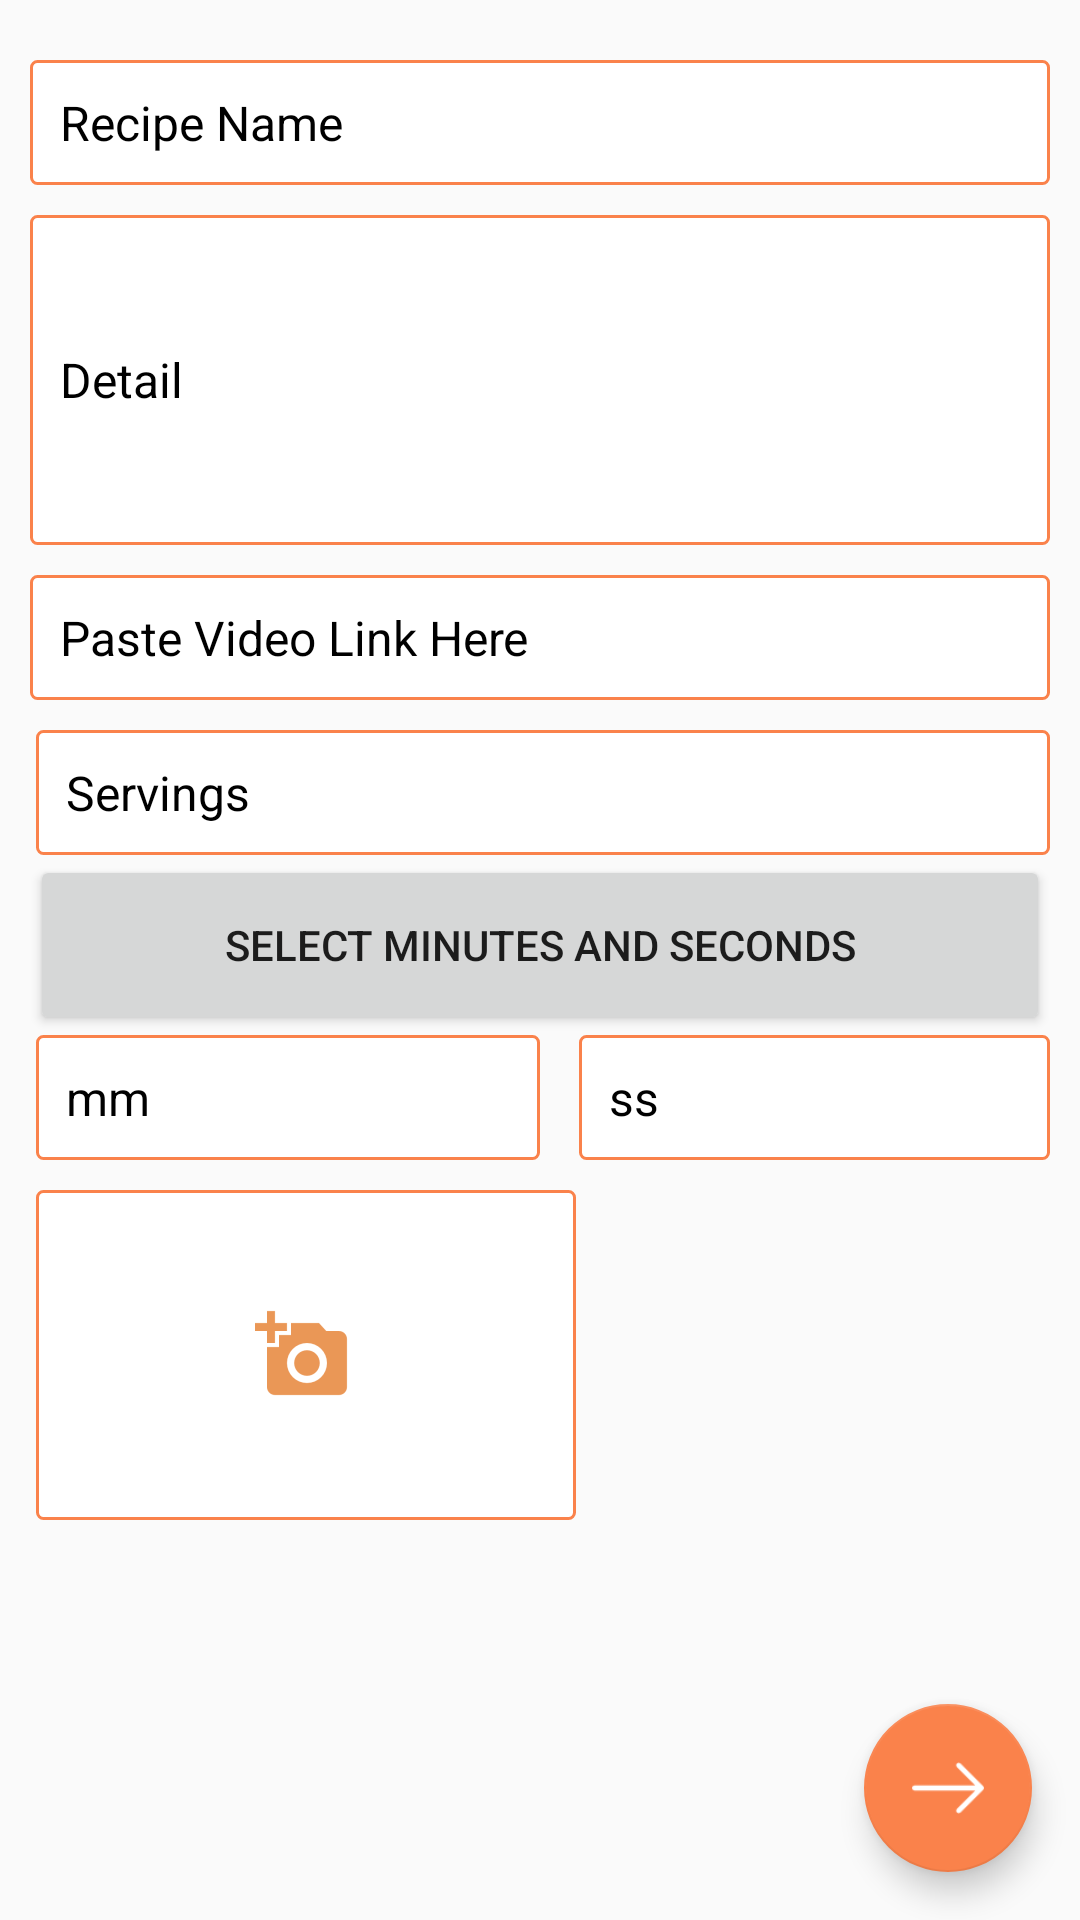

Where to tap for icons on this 1080×1920 app screen, as point (x, y):
next: point (948, 1788)
